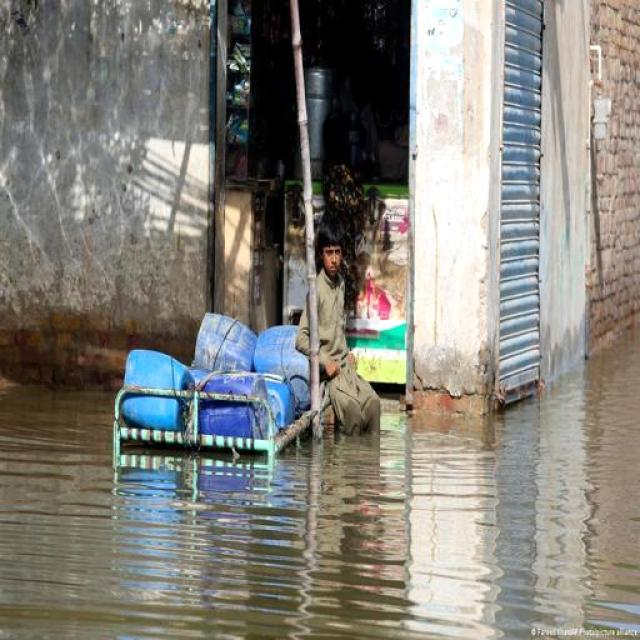civilian: (292, 229, 386, 454)
